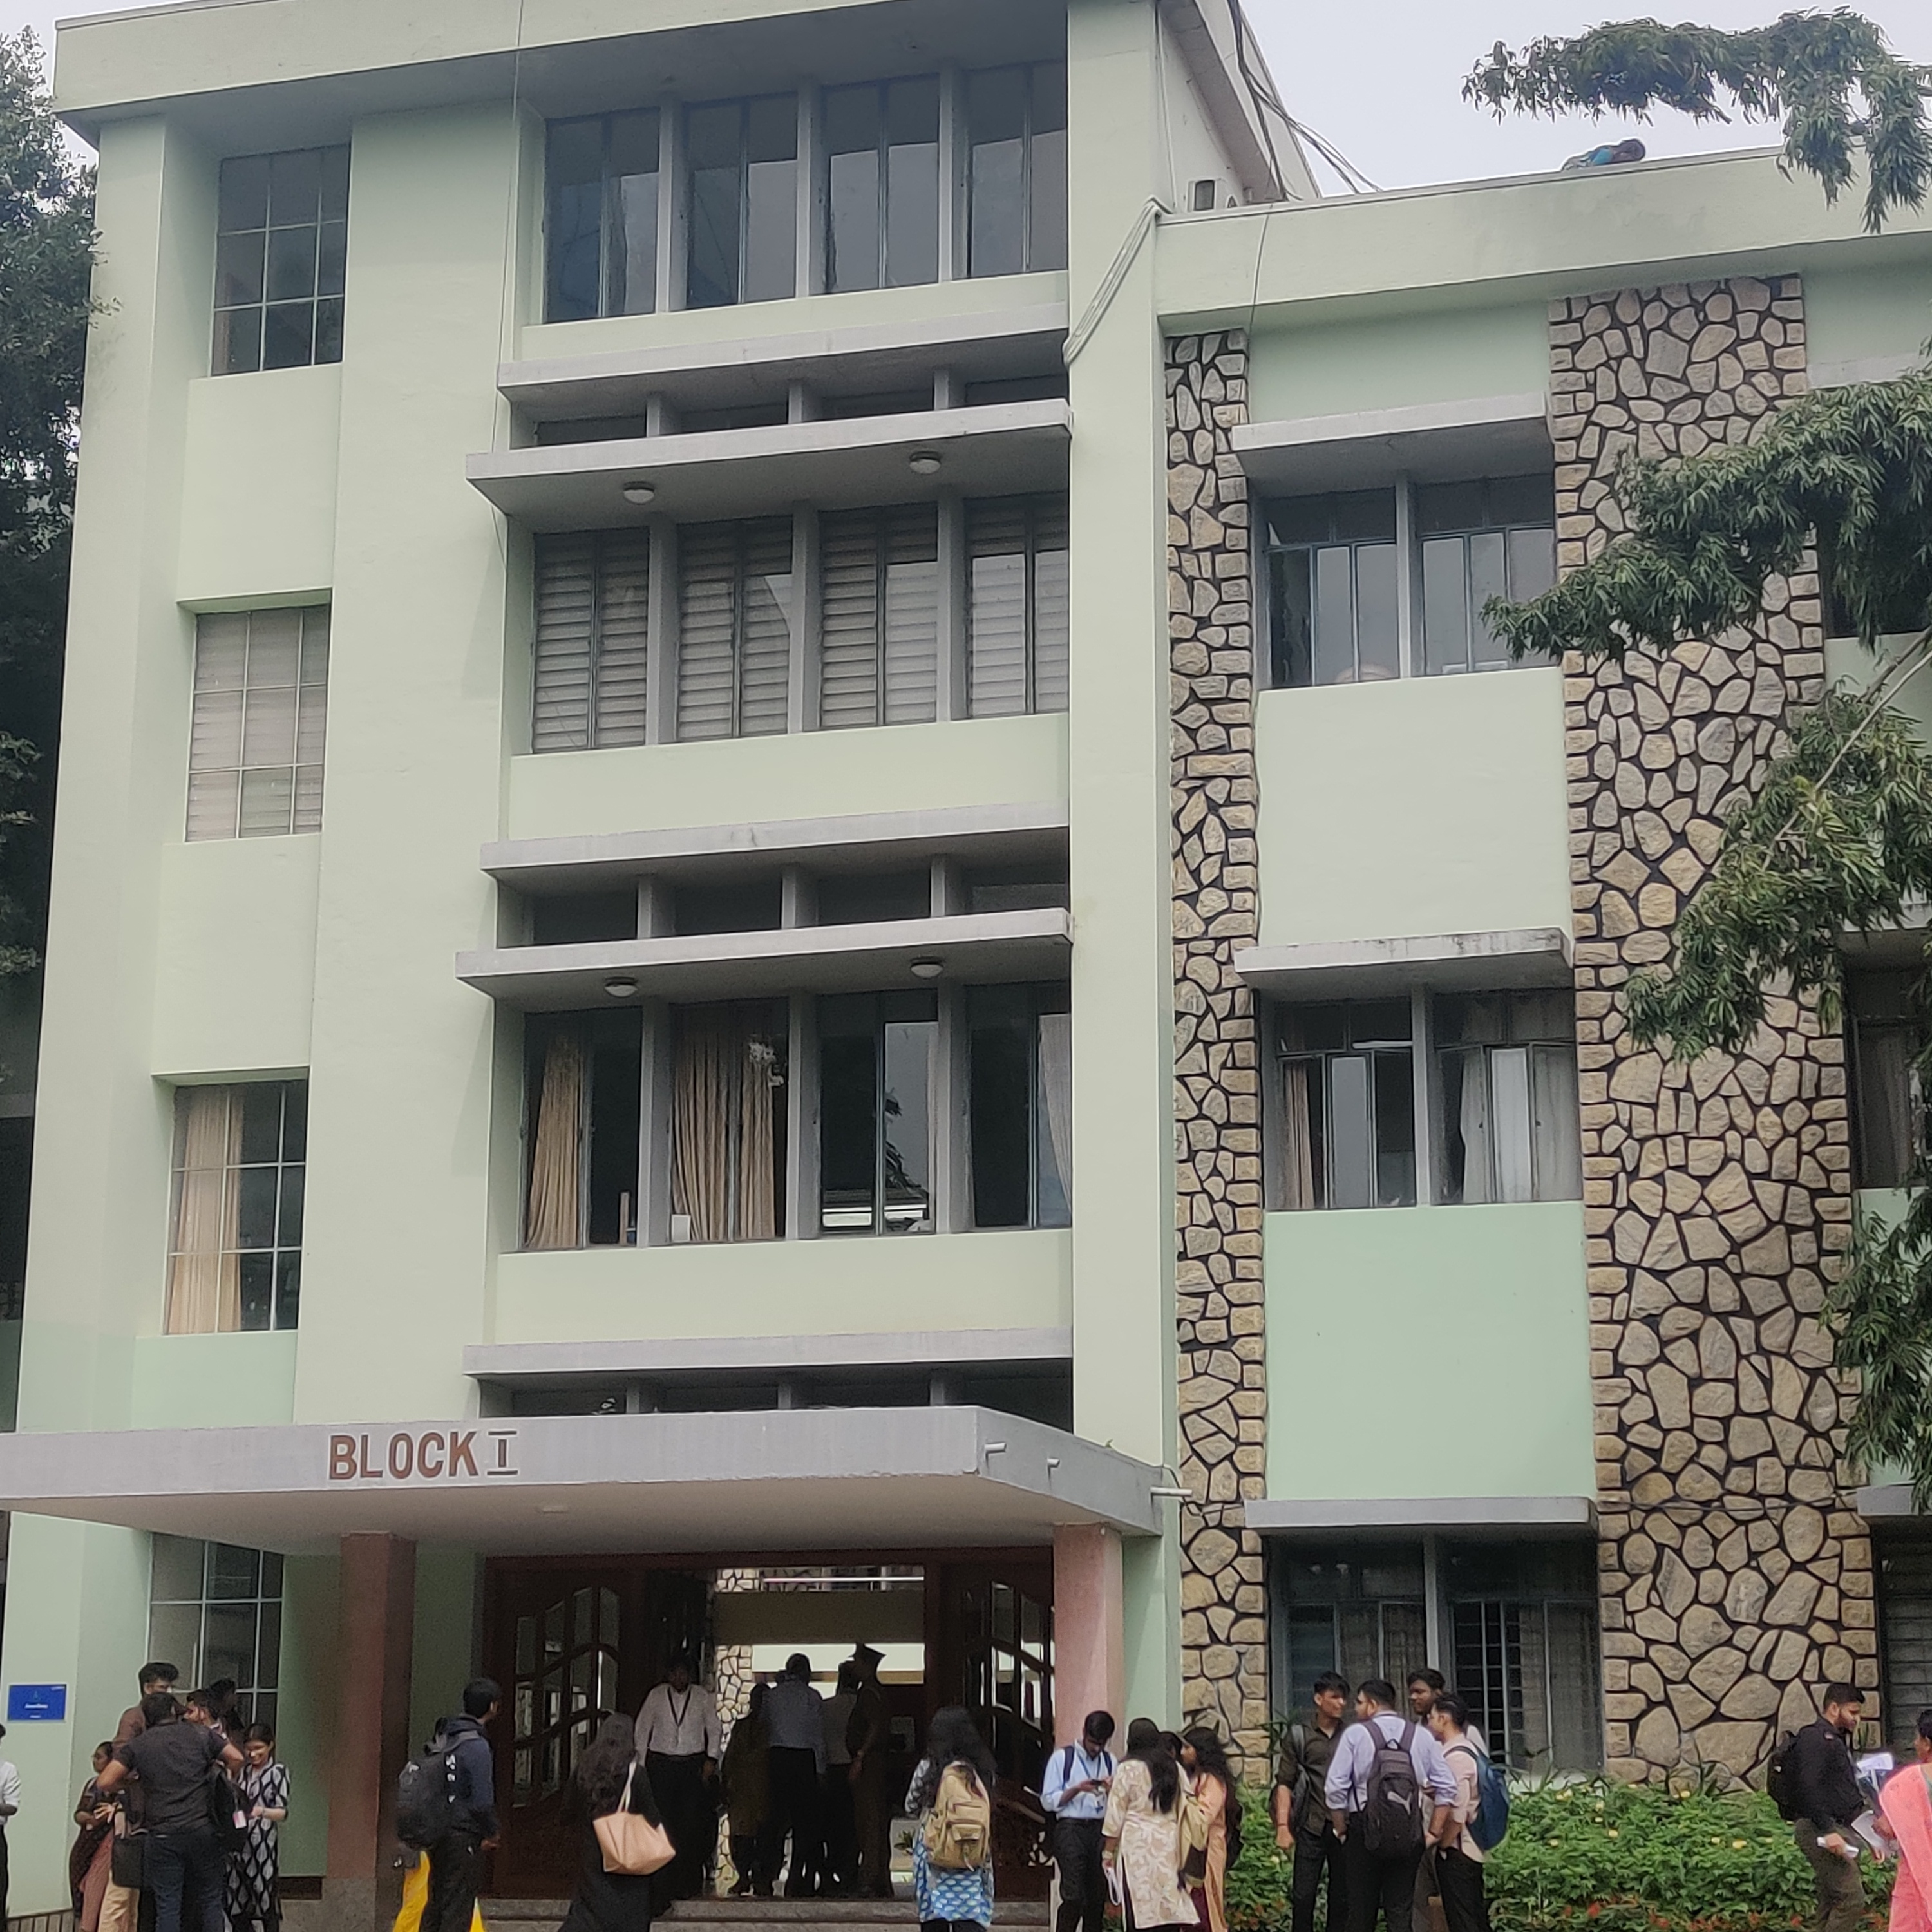Block 1: (69, 14, 1932, 1713)
